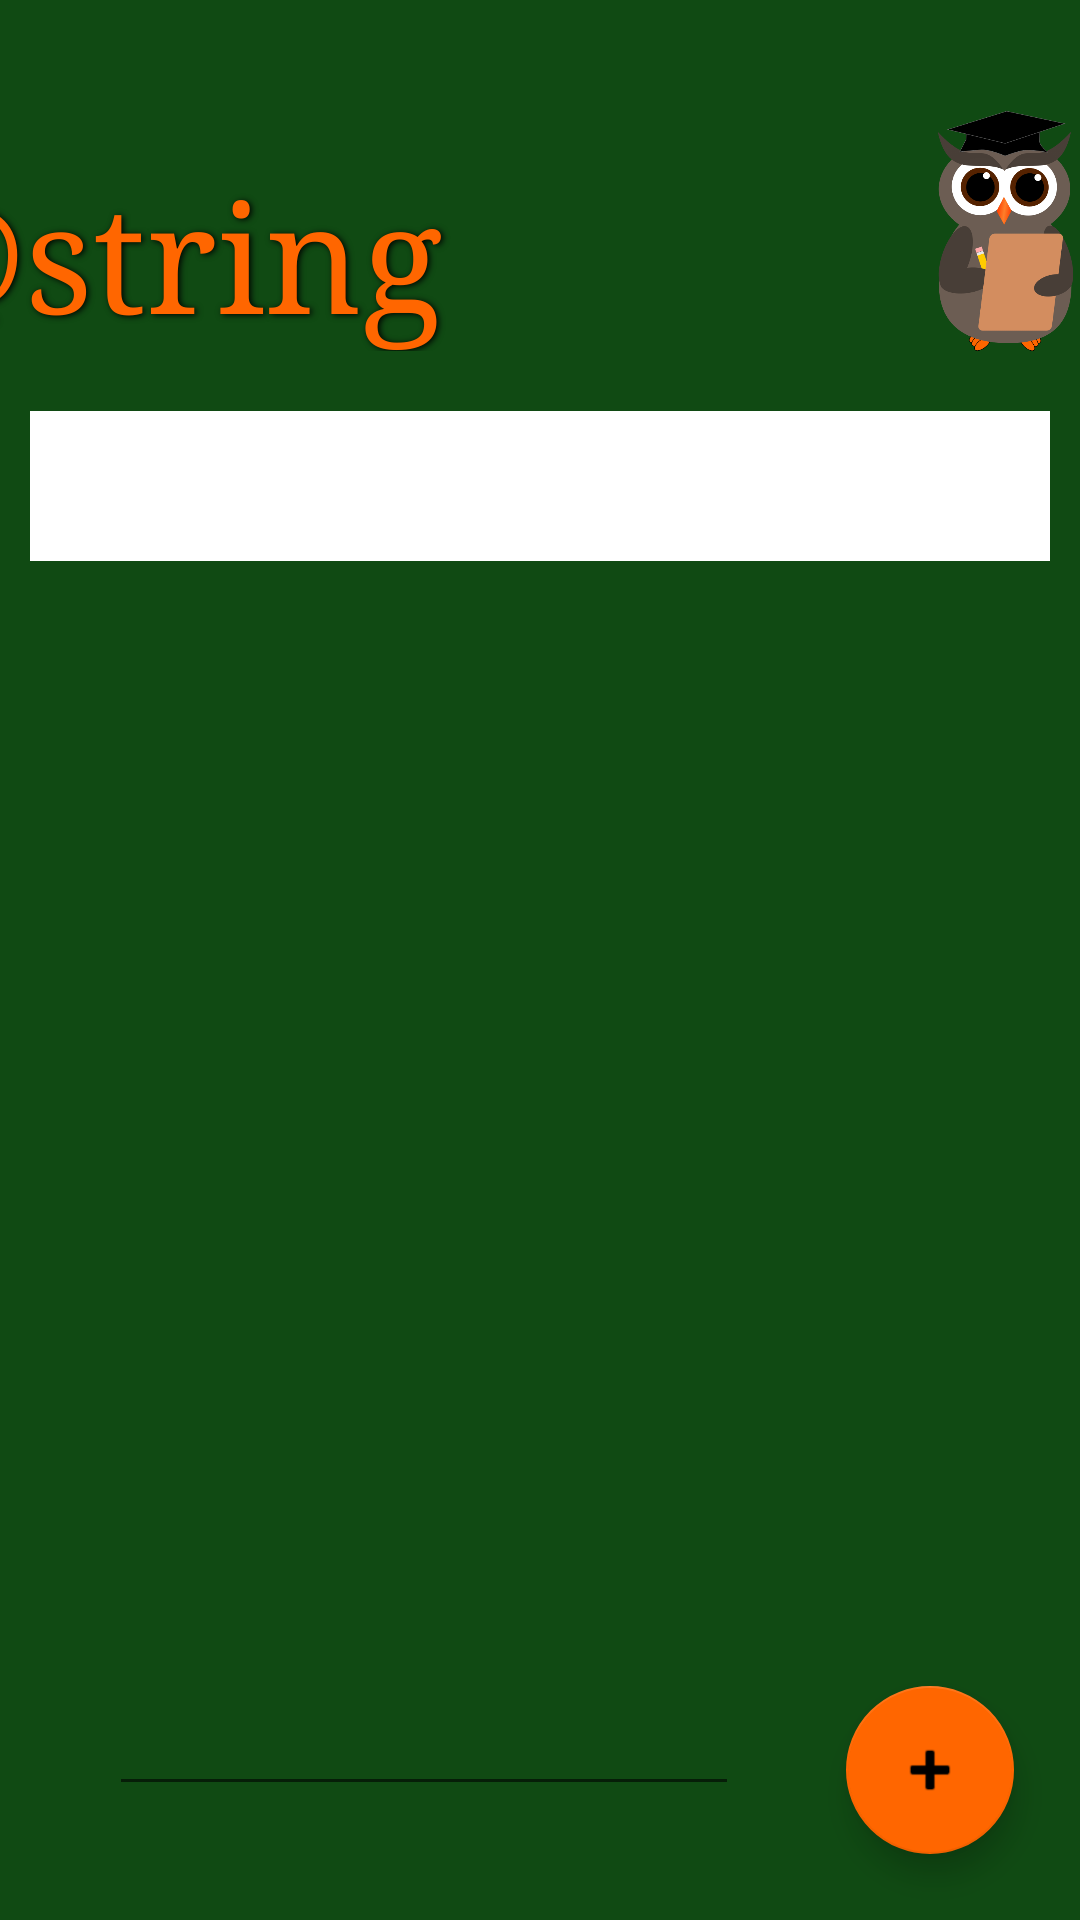

Where icons sit on this 1080px x 1920px app screen, as (x1, y1, x2, y2):
add: (846, 1686, 1014, 1854)
